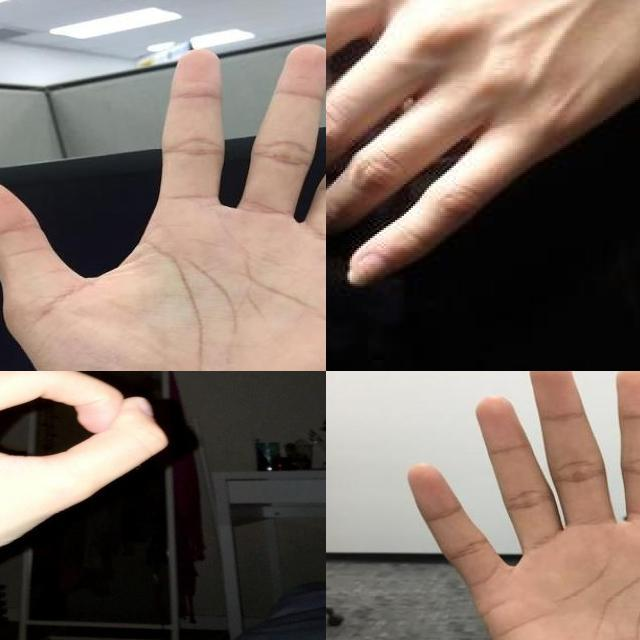hand: (0, 38, 326, 371), (326, 0, 640, 288), (404, 371, 640, 640), (0, 371, 195, 583)
